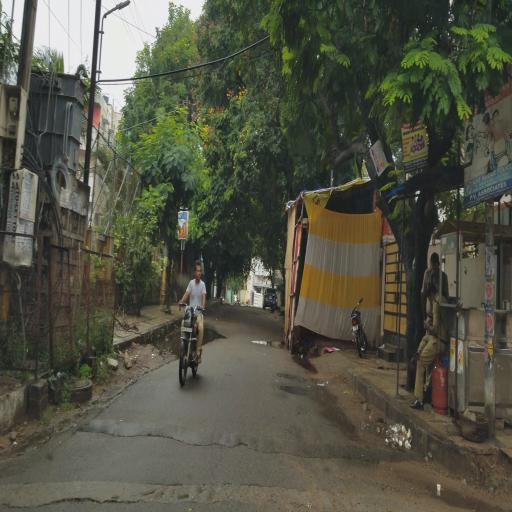street_light_0: (104, 1, 134, 37)
